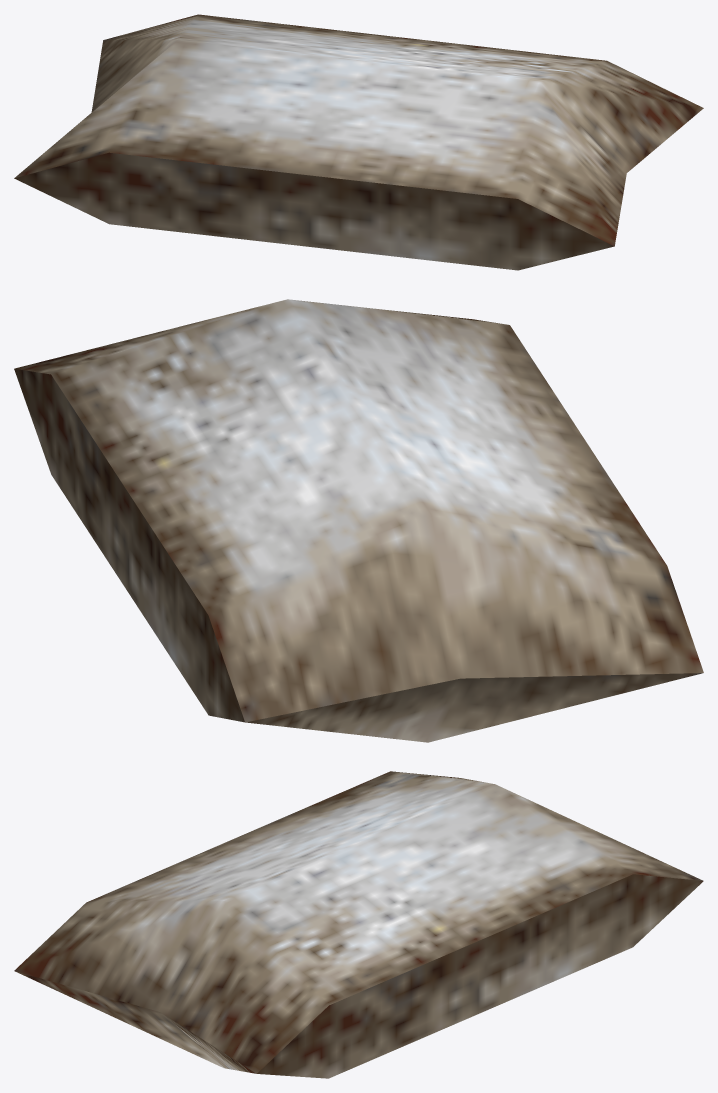
Rendered from 5013_Item_madai_1.FBX.
The picture shows the model from 3 angles, top to bottom: view 1: azimuth 30°, elevation 25°; view 2: azimuth 150°, elevation 25°; view 3: azimuth 270°, elevation 25°; orthographic projection. The views are drawn at different scales.
Visible parts, largest first — view 1: 5013_Item_madai_1; view 2: 5013_Item_madai_1; view 3: 5013_Item_madai_1.
Boxes of the visible parts, x1=… form: 5013_Item_madai_1: x1=14, y1=14, x2=703, y2=270; 5013_Item_madai_1: x1=14, y1=299, x2=703, y2=742; 5013_Item_madai_1: x1=14, y1=771, x2=703, y2=1078.
Bounding box in the file's own units: 296 × 78.75 × 293.
